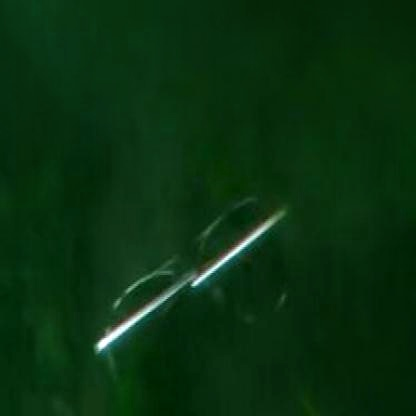sunglasses: (68, 193, 295, 351)
